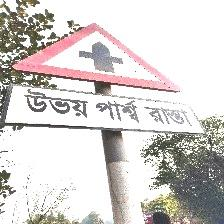Crossroad: (6, 22, 200, 132)
